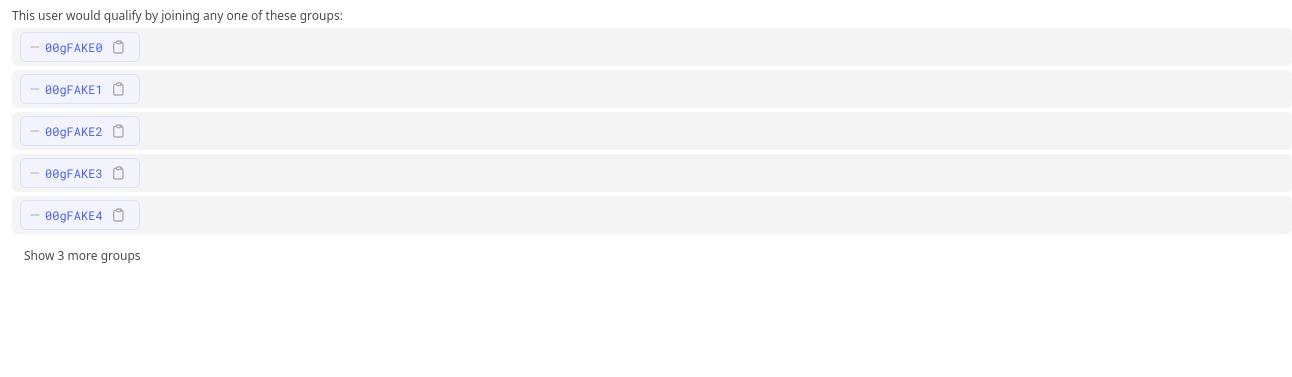
a positive clause lists every candidate › collapses a long candidate list behind a control that reveals the rest
Expected: the text "00gFAKE4" is shown, [45, 207, 103, 223]
Expected: the text "00gFAKE7" is not shown
What coordinates should you click on to do the following:
click the button named "show 3 more groups"
I would click on:
 (82, 256)
Its box is [12, 238, 153, 274].
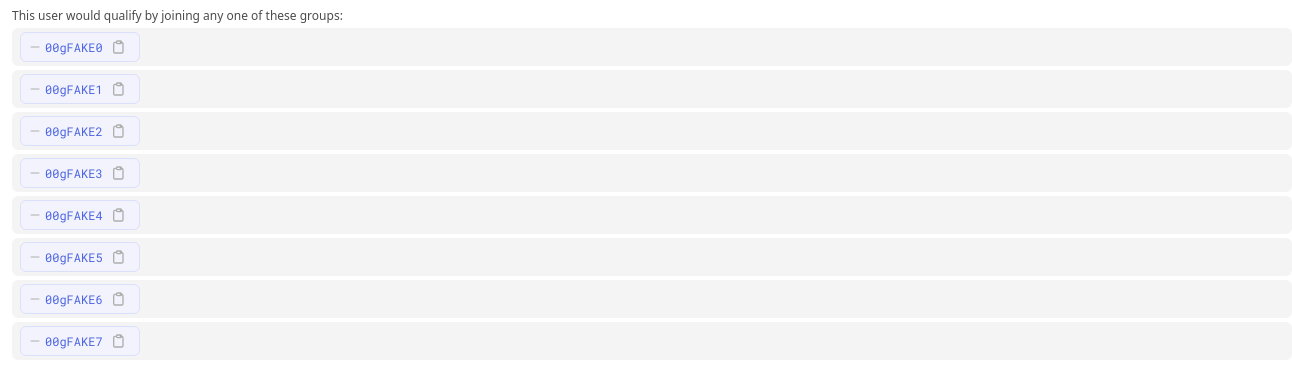
Now the text "00gFAKE7" is shown, box [45, 333, 103, 349]
